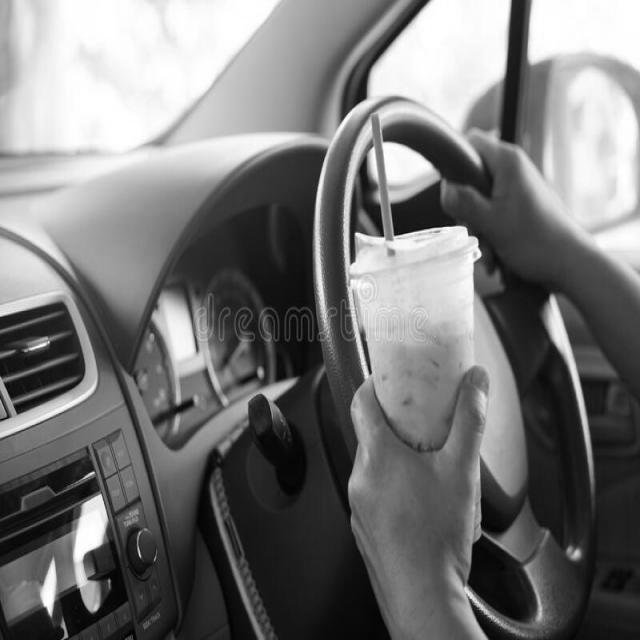Drinking: (349, 216, 483, 464)
